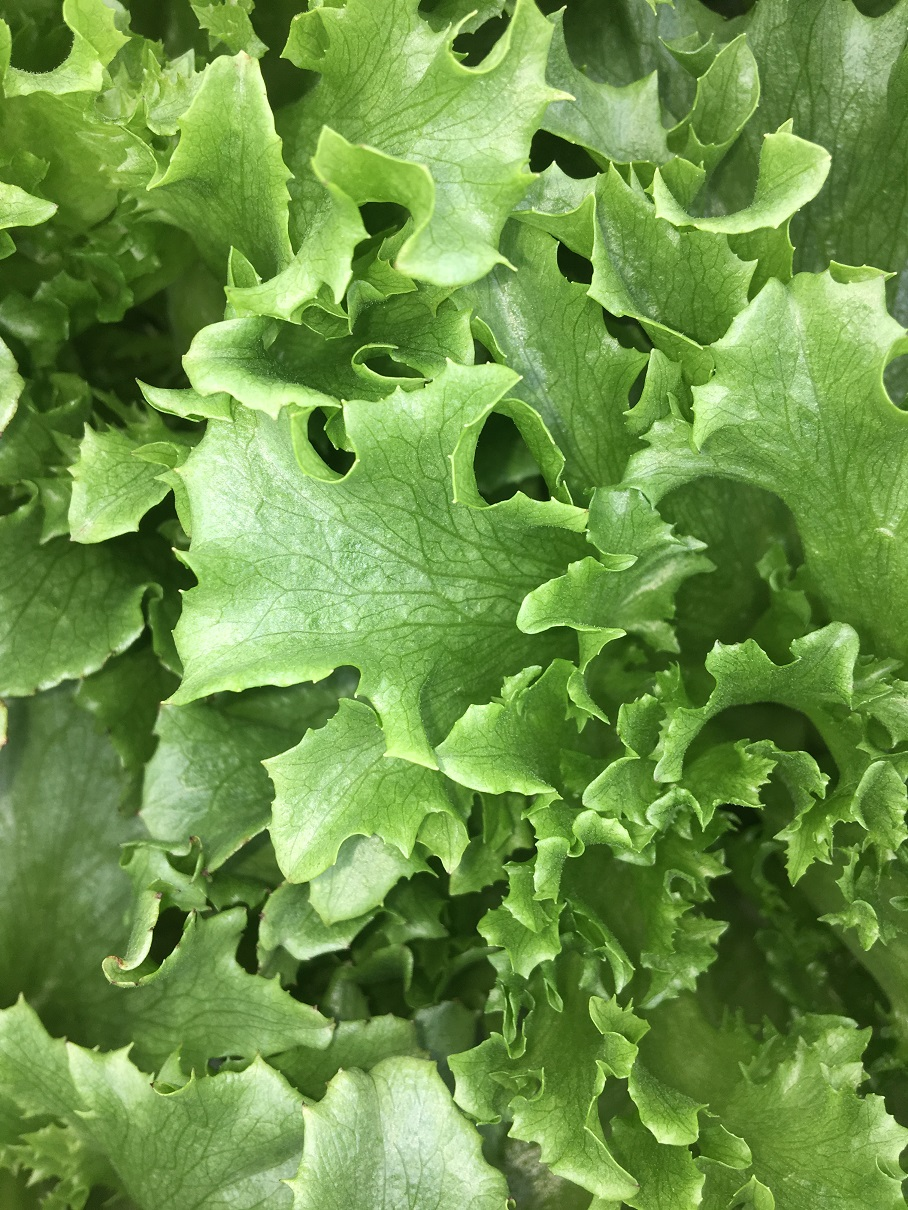tipburn: (303, 986, 353, 1038), (282, 1088, 330, 1133), (485, 1175, 539, 1210), (131, 1065, 170, 1106), (97, 934, 134, 975), (171, 820, 208, 858), (117, 962, 153, 1001), (244, 896, 282, 932), (138, 875, 173, 913), (233, 39, 271, 73), (311, 168, 347, 203), (348, 129, 386, 162), (229, 819, 262, 853), (181, 899, 213, 933), (265, 874, 294, 895)
